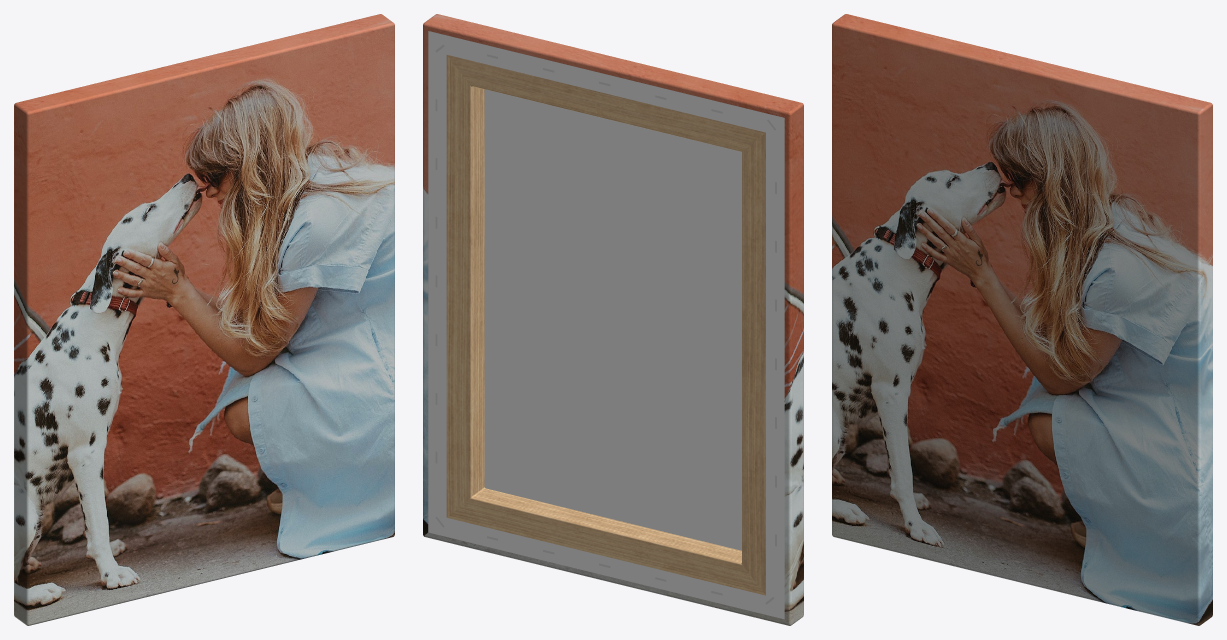
Rendered from canvas-portrait-motif.glb.
The picture shows the model from 3 angles, left to right: view 1: azimuth 30°, elevation 25°; view 2: azimuth 150°, elevation 25°; view 3: azimuth 330°, elevation 25°; orthographic projection.
Visible parts, largest first — view 1: Canvas_Motif; view 2: Canvas_White_Backside, Canvas_Frame, Canvas_White, Canvas_Motif, Canvas_Staples; view 3: Canvas_Motif.
Part boxes in pixels (<box>): Canvas_Motif: <box>14,14,394,625</box>; Canvas_White_Backside: <box>484,89,741,550</box>; Canvas_Frame: <box>446,55,765,595</box>; Canvas_White: <box>428,31,784,619</box>; Canvas_Motif: <box>423,14,803,625</box>; Canvas_Staples: <box>435,44,776,604</box>; Canvas_Motif: <box>832,14,1212,625</box>.
Bounding box in the file's own units: 0.3 × 0.4 × 0.0202.
Materials: 4 (2 with a texture image).
